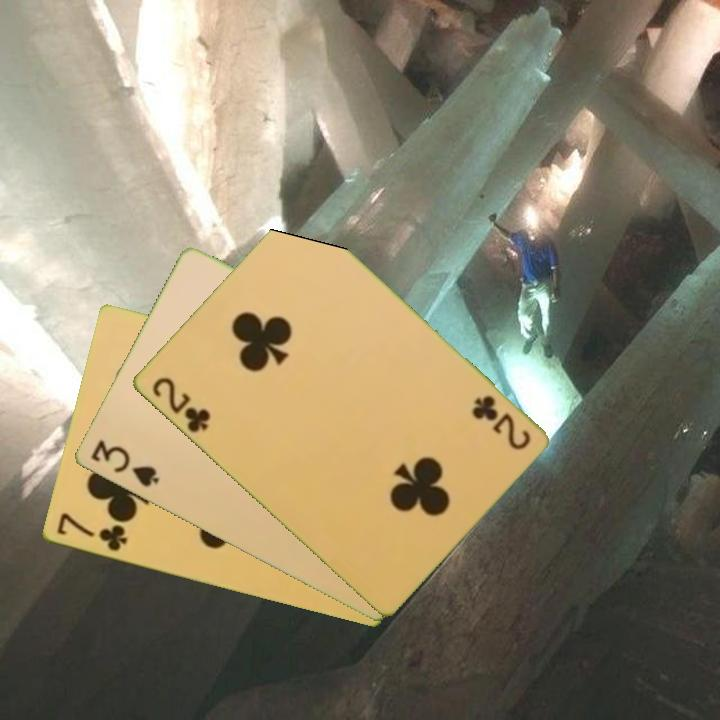2c: (148, 373, 213, 436), (468, 391, 533, 453)
3s: (86, 436, 162, 491)
7c: (53, 509, 130, 554)
